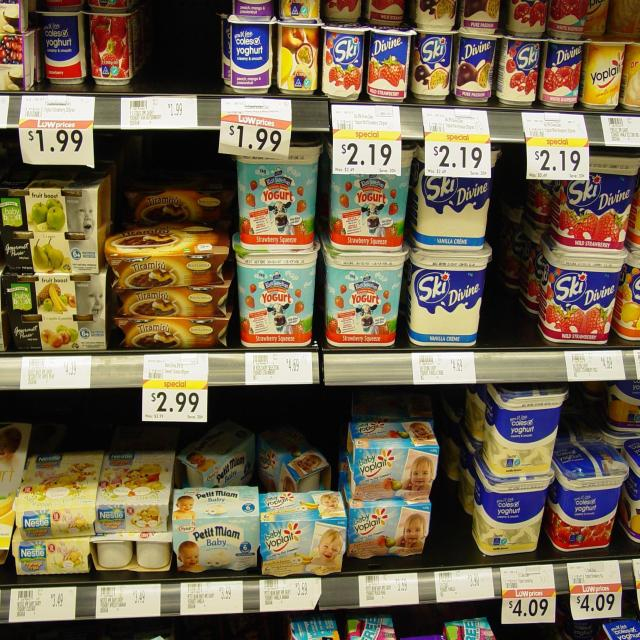empty_space: (150, 3, 222, 90), (499, 178, 532, 341), (439, 398, 468, 551)
